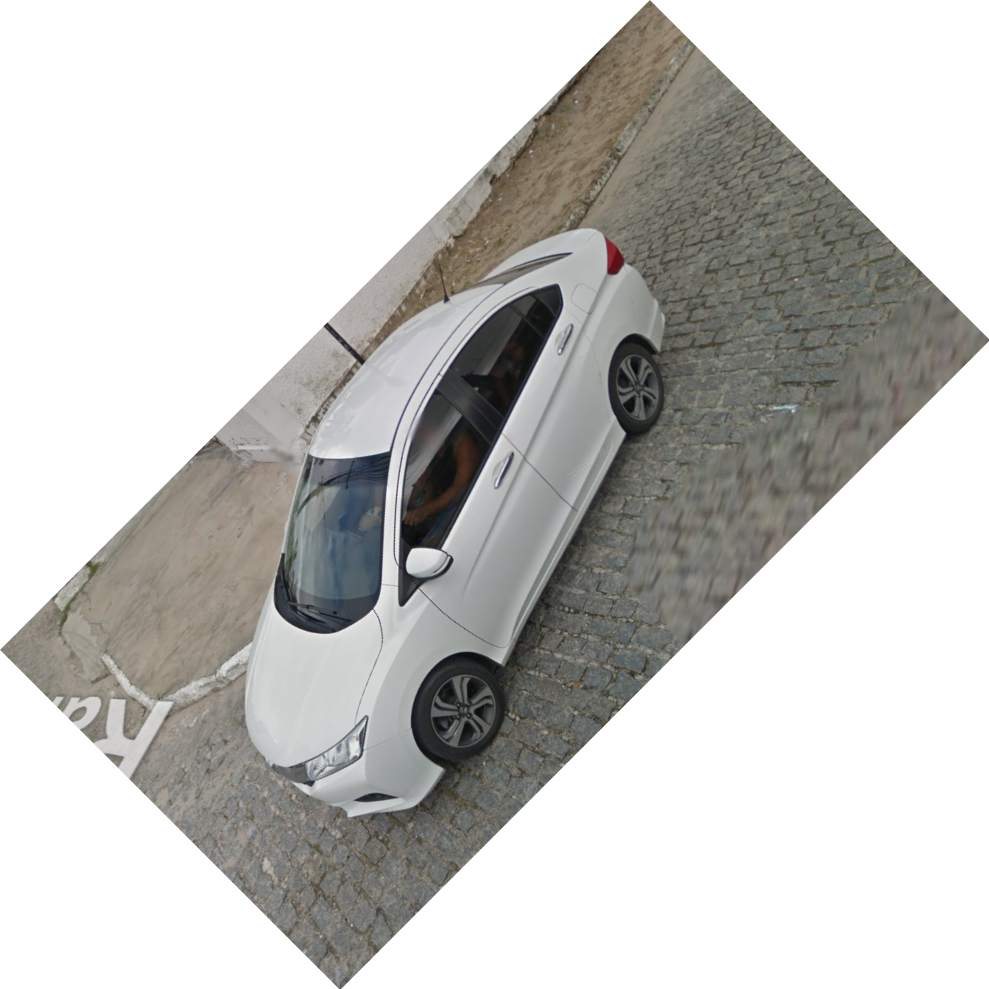car: (241, 226, 670, 821)
